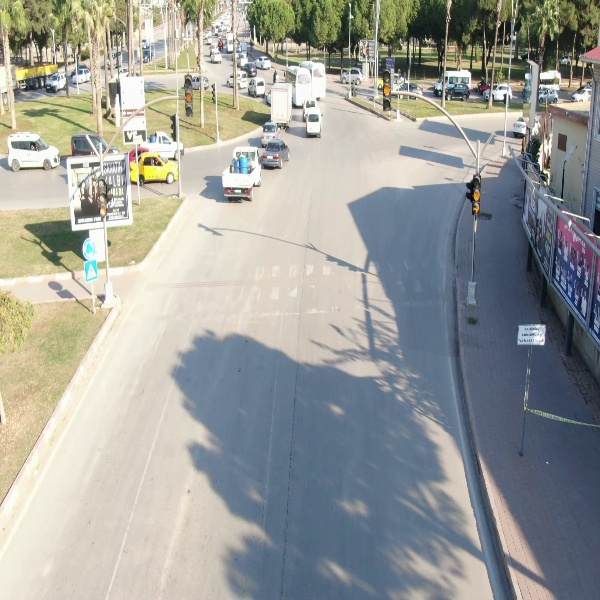car: (5, 127, 63, 176), (128, 147, 183, 194), (260, 136, 295, 172), (433, 79, 475, 107), (300, 106, 329, 141), (481, 83, 516, 103), (43, 69, 68, 96), (258, 120, 281, 146), (251, 52, 275, 76), (70, 66, 93, 91), (338, 66, 364, 86), (246, 75, 265, 99), (207, 48, 224, 66)
